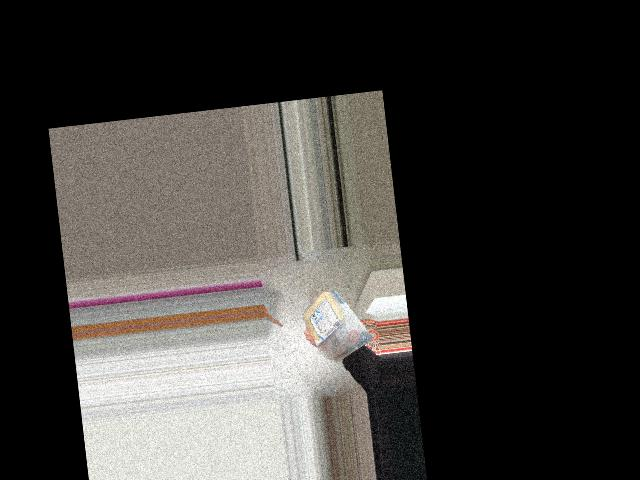cheese: (294, 281, 379, 368)
